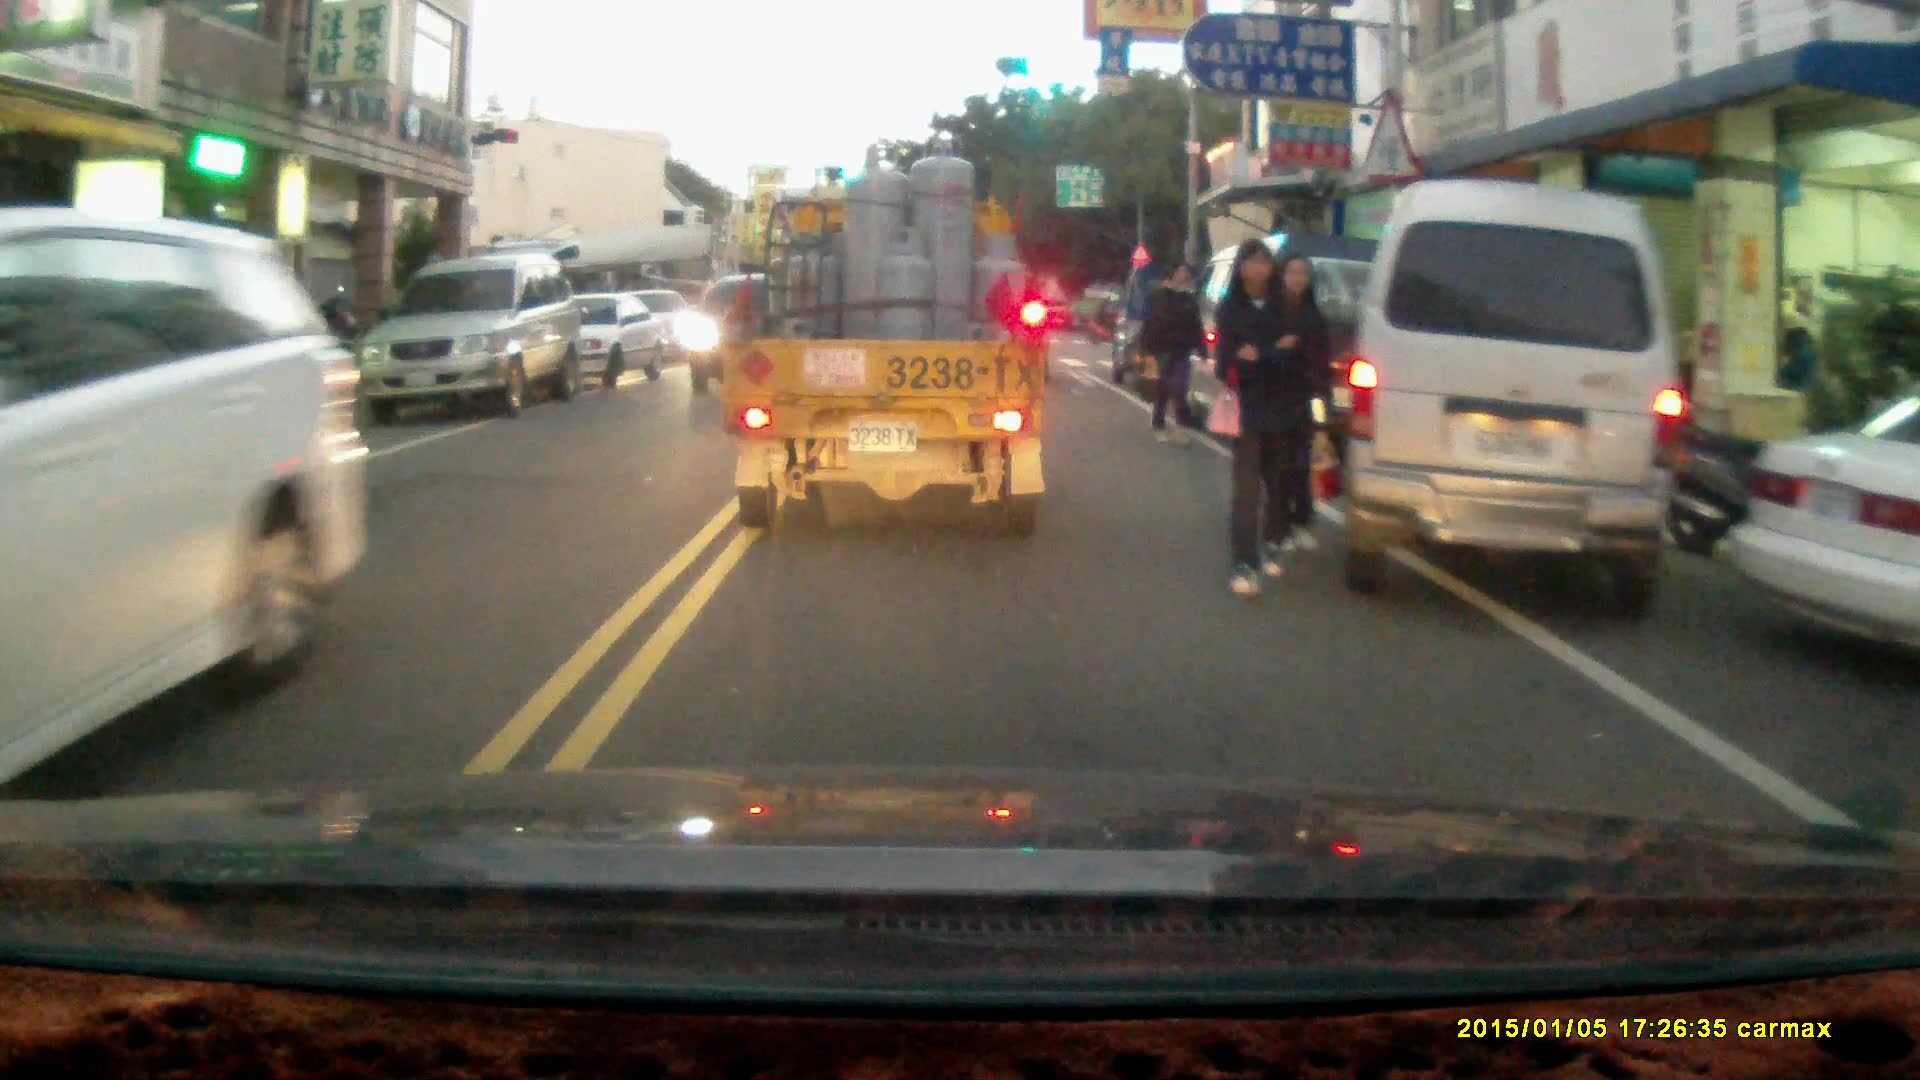pedestrian: (1212, 231, 1300, 592), (1140, 261, 1203, 451)
rider: (1087, 292, 1123, 342)
vehicle: (1, 209, 372, 796), (1336, 182, 1687, 623), (716, 134, 1054, 534), (1164, 227, 1451, 445), (1730, 398, 1920, 651), (360, 247, 586, 427), (517, 291, 672, 392)
